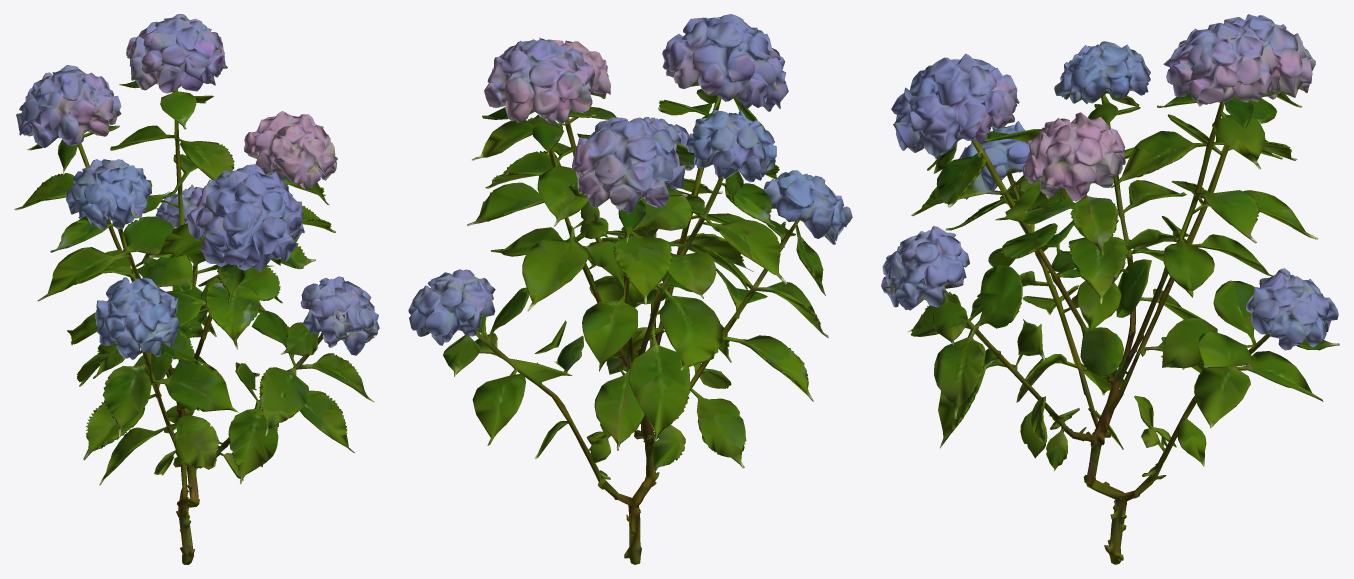
The model's file is XiuQiu.glb.
3 renders of one model, left to right at view 1: azimuth 30°, elevation 25°; view 2: azimuth 150°, elevation 25°; view 3: azimuth 270°, elevation 25°, orthographic. The views are drawn at different scales.
Parts seen in each view (by area): view 1: tripo_node_f44d5779-cbe8-41ca-8d09-ec9a0e0672e3; view 2: tripo_node_f44d5779-cbe8-41ca-8d09-ec9a0e0672e3; view 3: tripo_node_f44d5779-cbe8-41ca-8d09-ec9a0e0672e3.
Boxes of the visible parts, x1=… form: tripo_node_f44d5779-cbe8-41ca-8d09-ec9a0e0672e3: x1=14, y1=14, x2=379, y2=564; tripo_node_f44d5779-cbe8-41ca-8d09-ec9a0e0672e3: x1=408, y1=14, x2=852, y2=564; tripo_node_f44d5779-cbe8-41ca-8d09-ec9a0e0672e3: x1=881, y1=14, x2=1339, y2=564.
Bounding box in the file's own units: 0.5855 × 0.9787 × 0.7264.
Materials: 1 (1 with a texture image).
